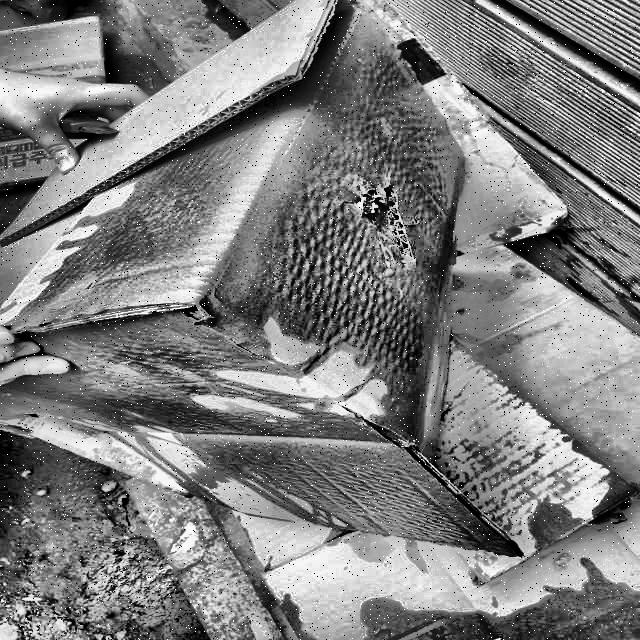box: (0, 0, 530, 556)
wet: (78, 119, 478, 555)
